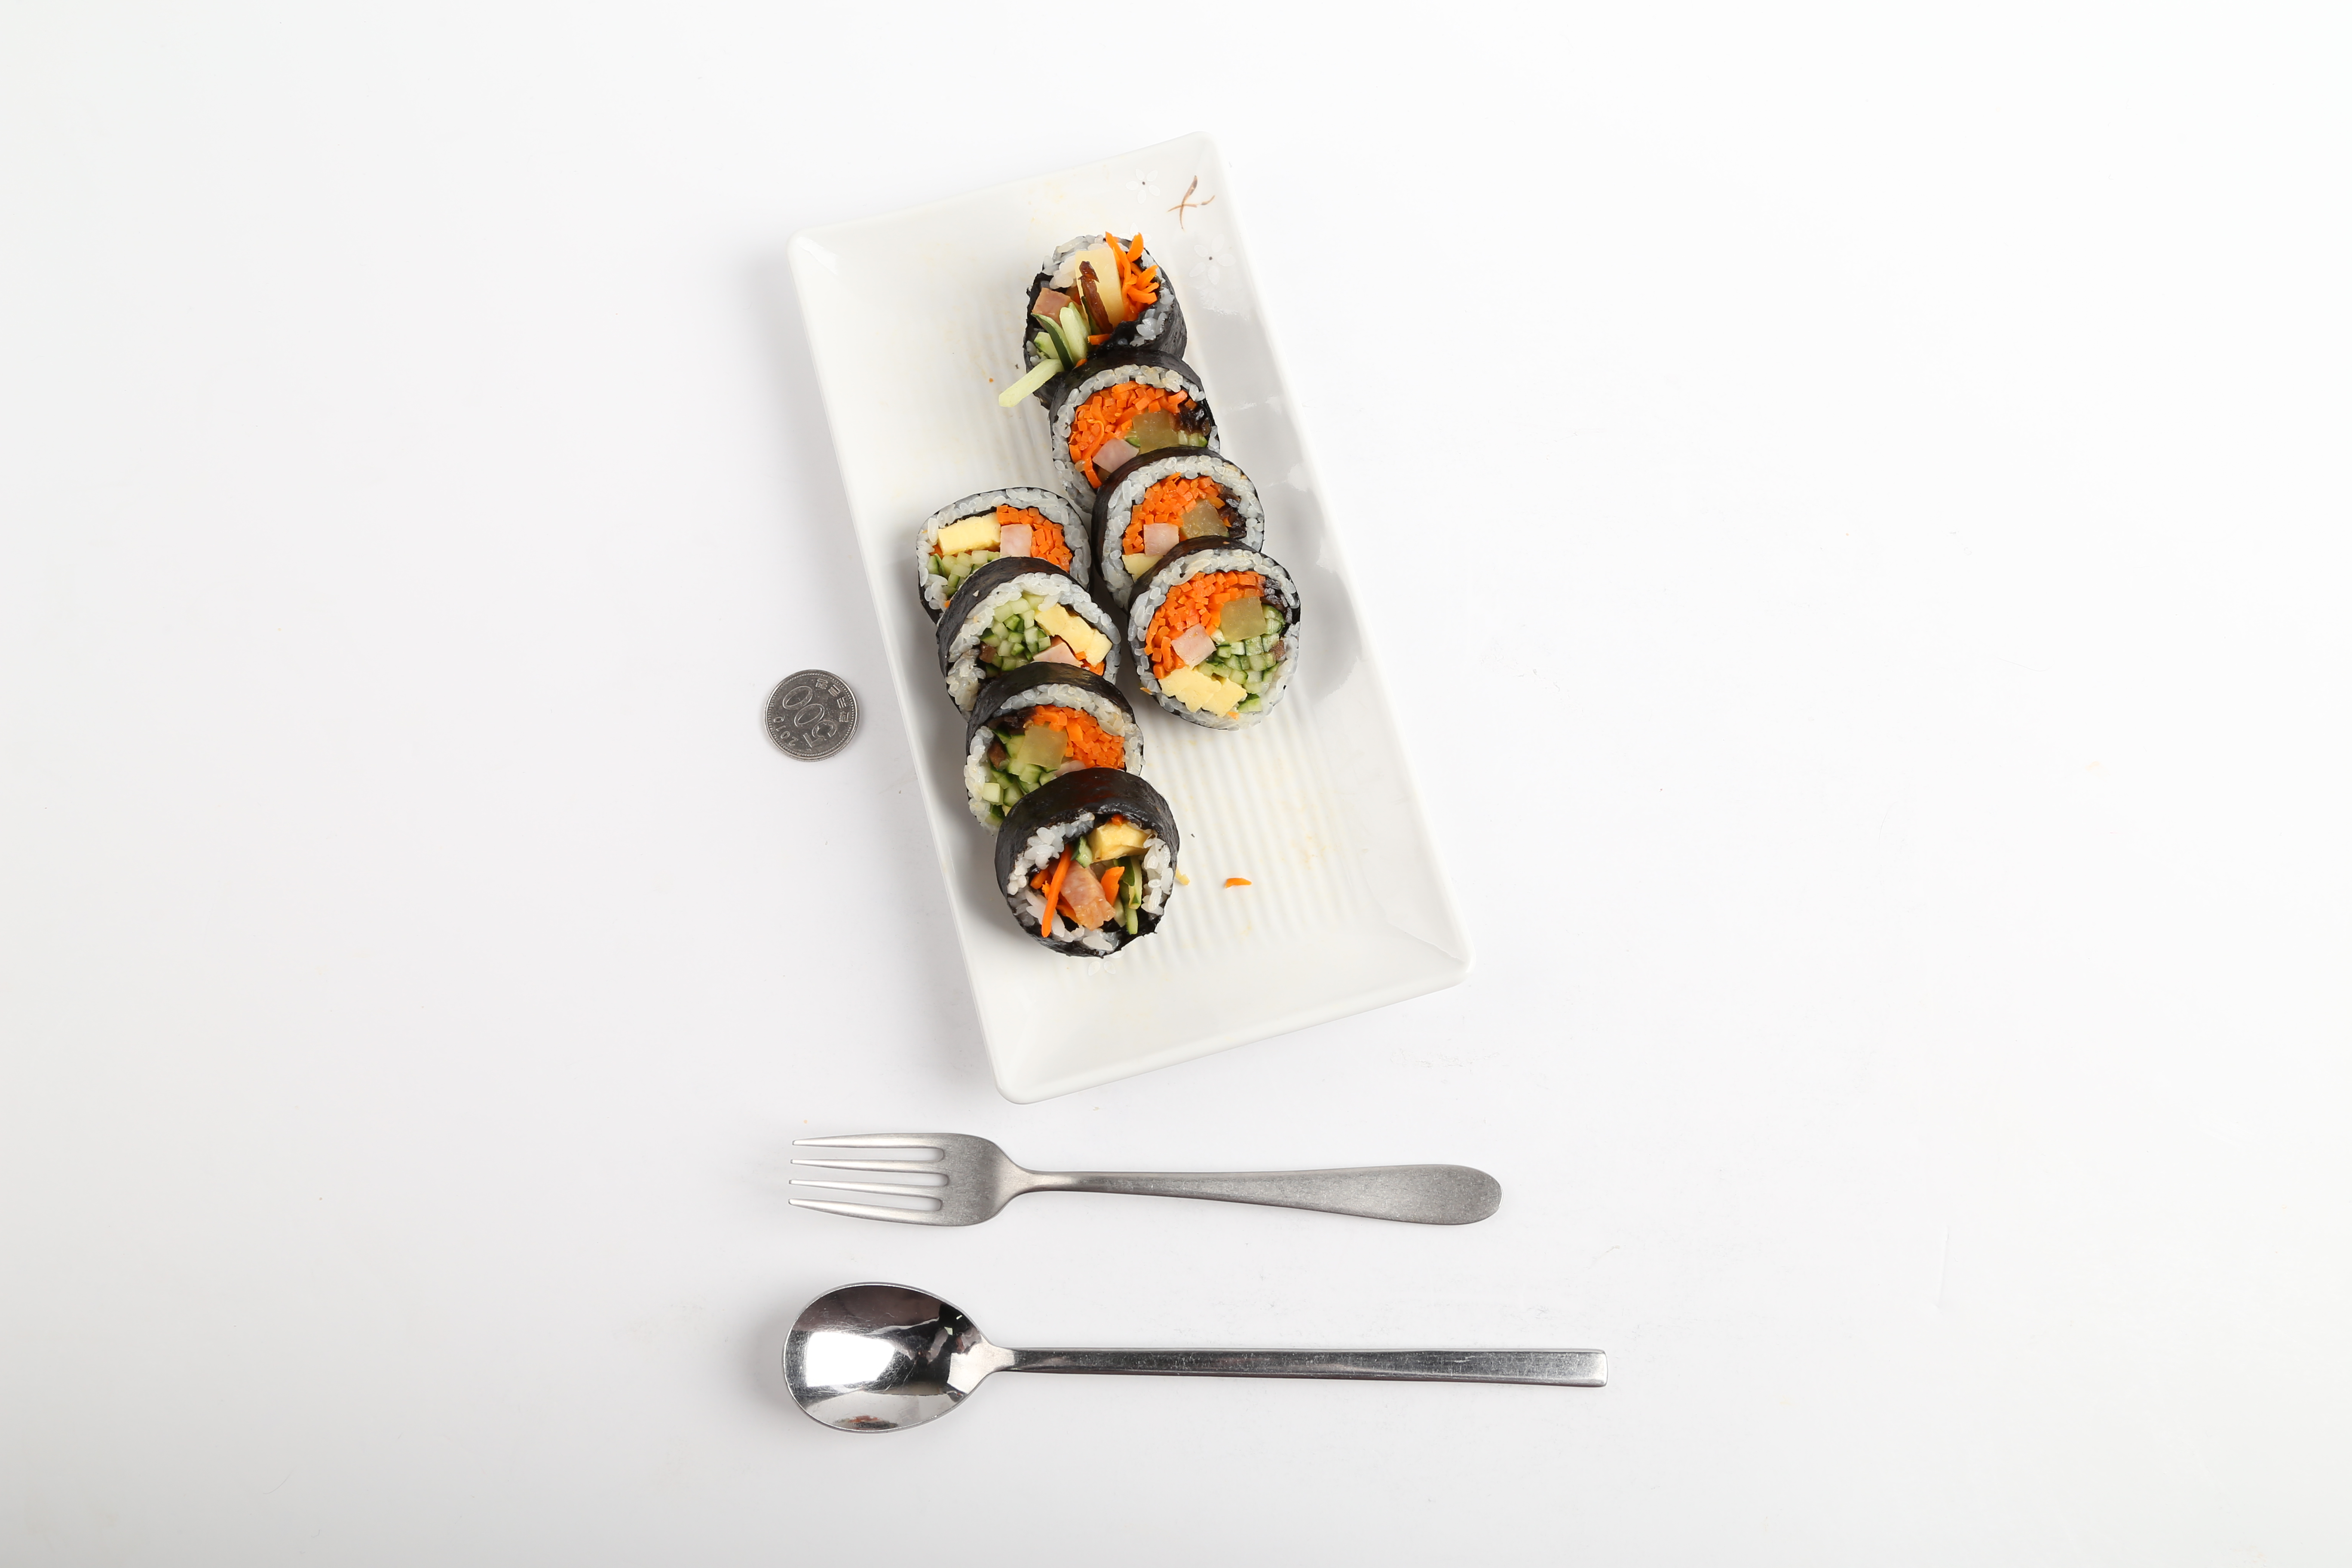dish: (789, 129, 1472, 1101)
ref_coin: (754, 661, 863, 766)
ref_fork: (779, 1127, 1078, 1232)
ref_spoon: (779, 1274, 1066, 1440)
김밥: (912, 224, 1305, 961)
